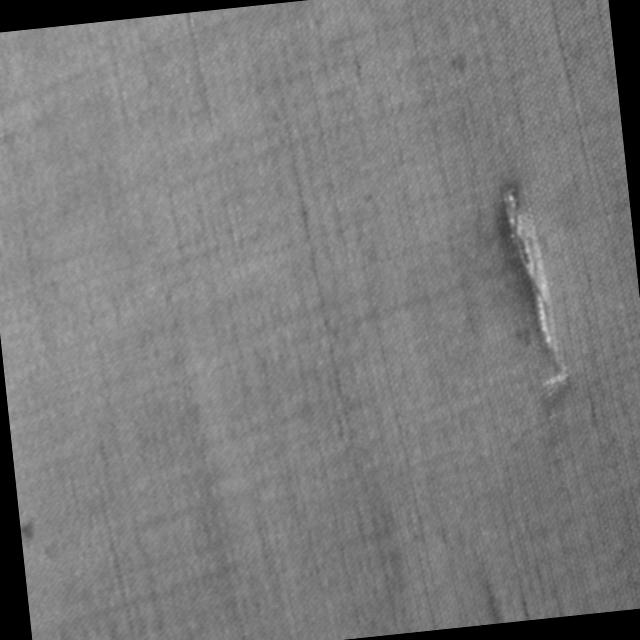hole: (494, 172, 574, 408)
